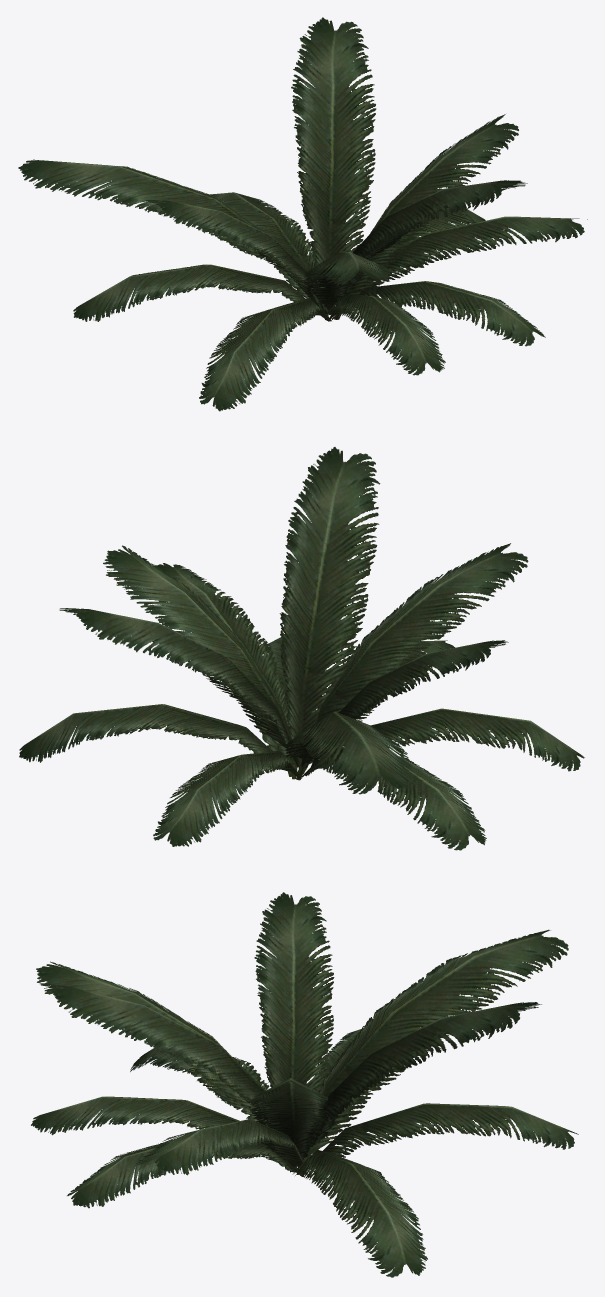
Rendered from varen.obj.
3 views of the same model, one above another, from view 1: azimuth 30°, elevation 25°; view 2: azimuth 150°, elevation 25°; view 3: azimuth 270°, elevation 25° (orthographic). The views are drawn at different scales.
Parts seen in each view (by area): view 1: varen; view 2: varen; view 3: varen.
Boxes of the visible parts, x1,y1,x2,y2 form: varen: (18, 17, 587, 411); varen: (19, 447, 584, 850); varen: (31, 892, 578, 1277).
Bounding box in the file's own units: 153 × 71.59 × 158.
1 material, 1 textured.
